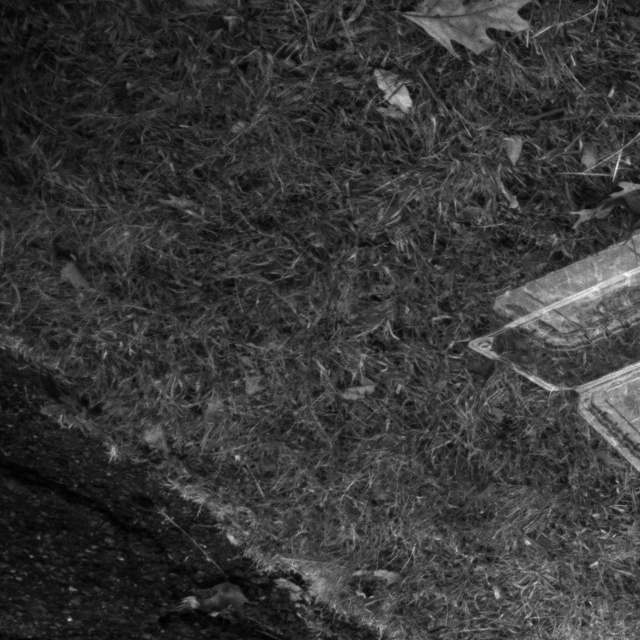container: (463, 219, 640, 490)
